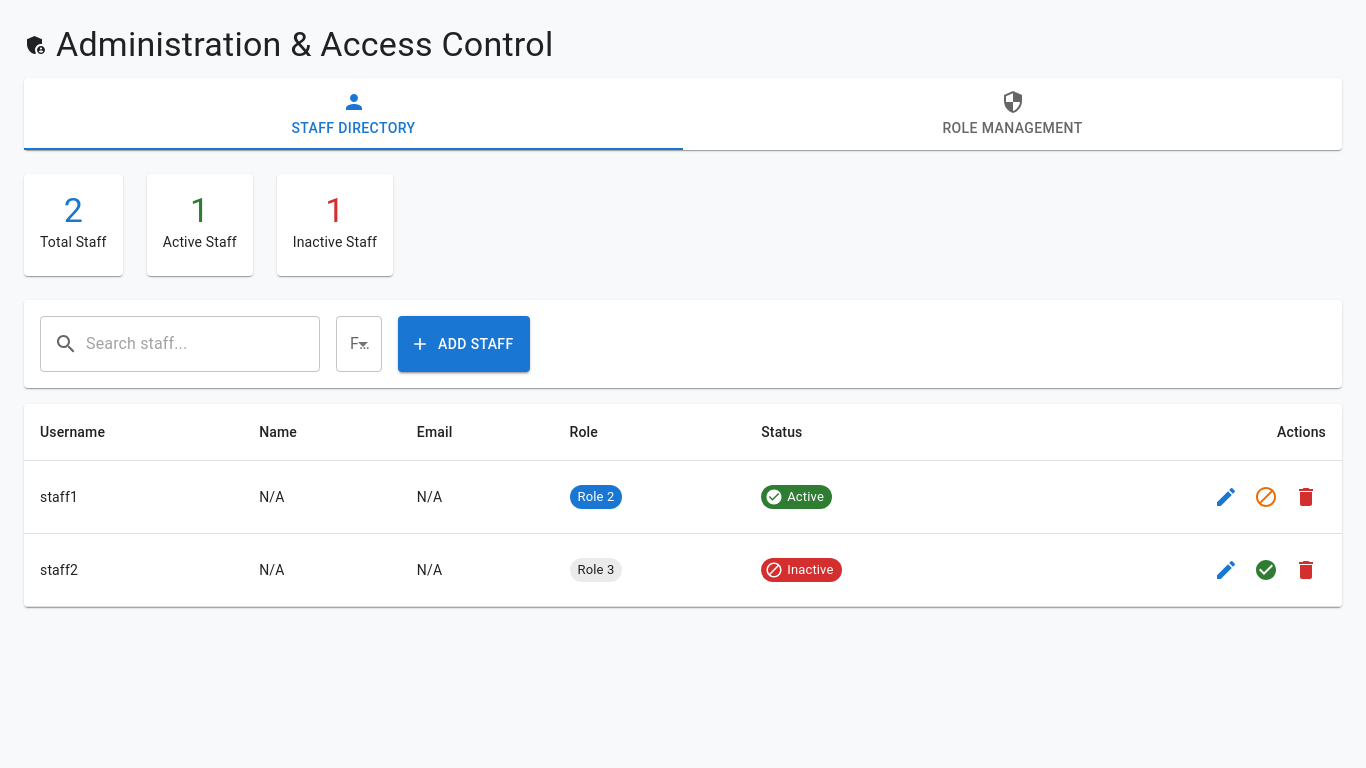
StaffManagement Page › validates staff form
Click the button "Add Staff" at {"x": 464, "y": 344}, box [398, 316, 530, 372]
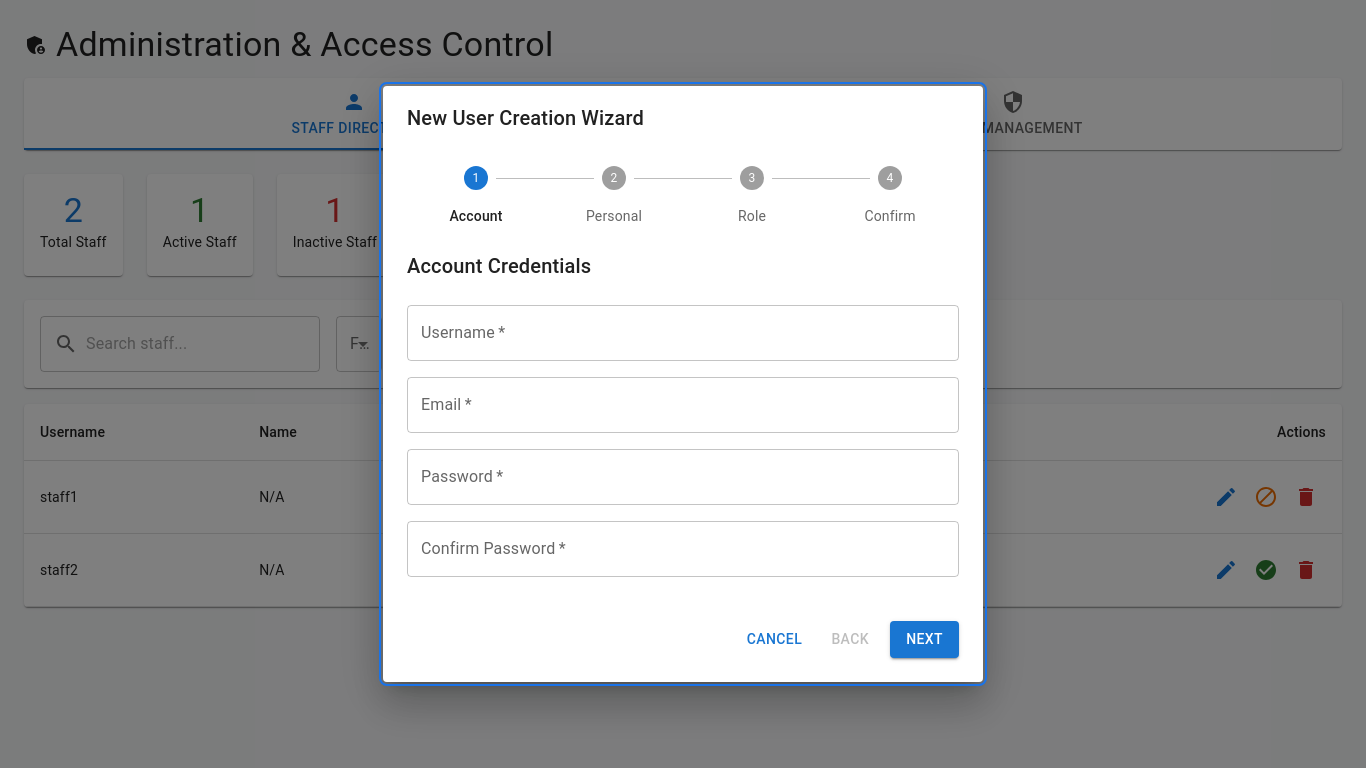
# In Wizard, first step is Account Details. Click Next without filling.
Click the button "Next" at {"x": 925, "y": 640}, box [890, 621, 959, 658]
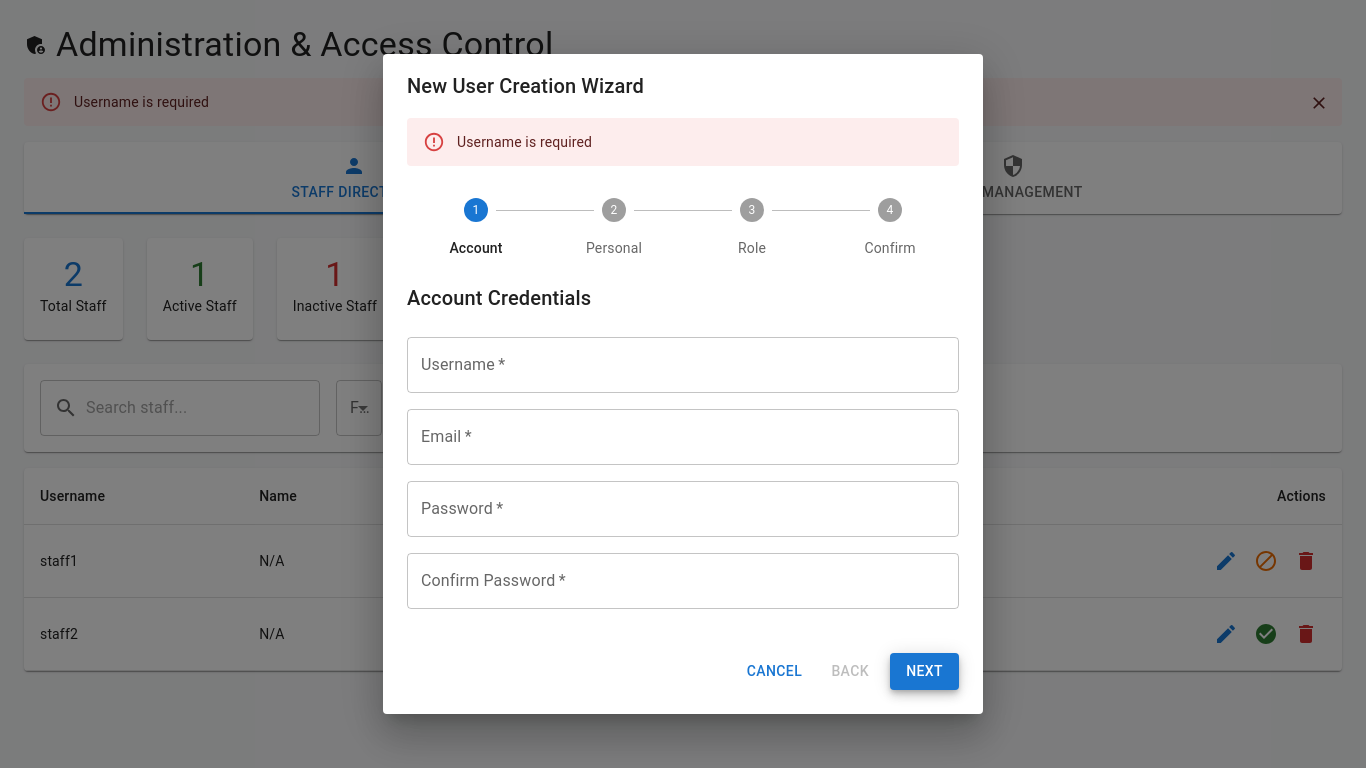
Check: the text "Username is required" below "Administration & Access Control" is shown, box [74, 94, 209, 110]
